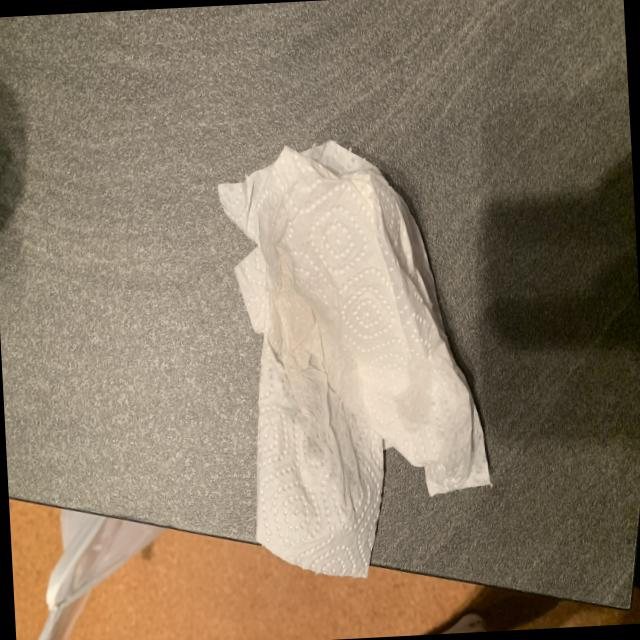organic waste: (217, 120, 498, 588)
